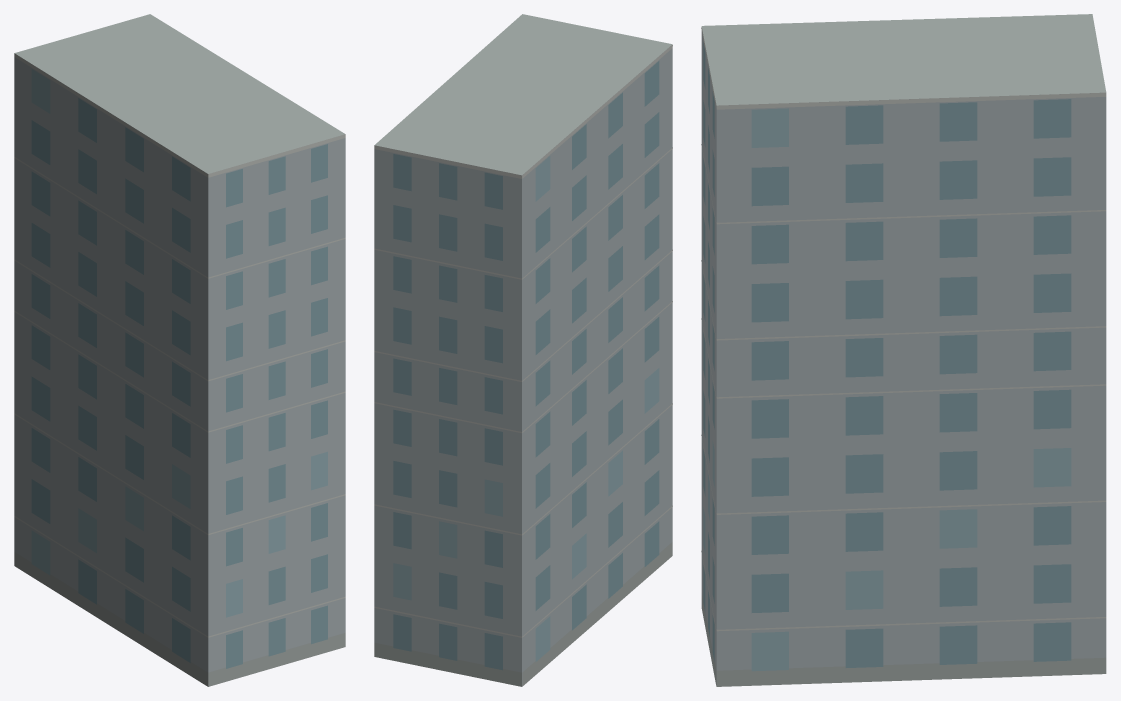
File: survey-upis-32982638.glb
3 views of the same model, side by side, from view 1: azimuth 30°, elevation 25°; view 2: azimuth 150°, elevation 25°; view 3: azimuth 270°, elevation 25° (orthographic). The views are drawn at different scales.
Visible parts, largest first — view 1: survey-upis-32982638.tmp; view 2: survey-upis-32982638.tmp; view 3: survey-upis-32982638.tmp.
Part boxes in pixels (box(x1,y1,x2,y2)): survey-upis-32982638.tmp: box(14, 14, 345, 686); survey-upis-32982638.tmp: box(374, 14, 672, 686); survey-upis-32982638.tmp: box(701, 14, 1106, 686).
Size of the model in its own units: 11.34 by 33.5 by 21.17.
